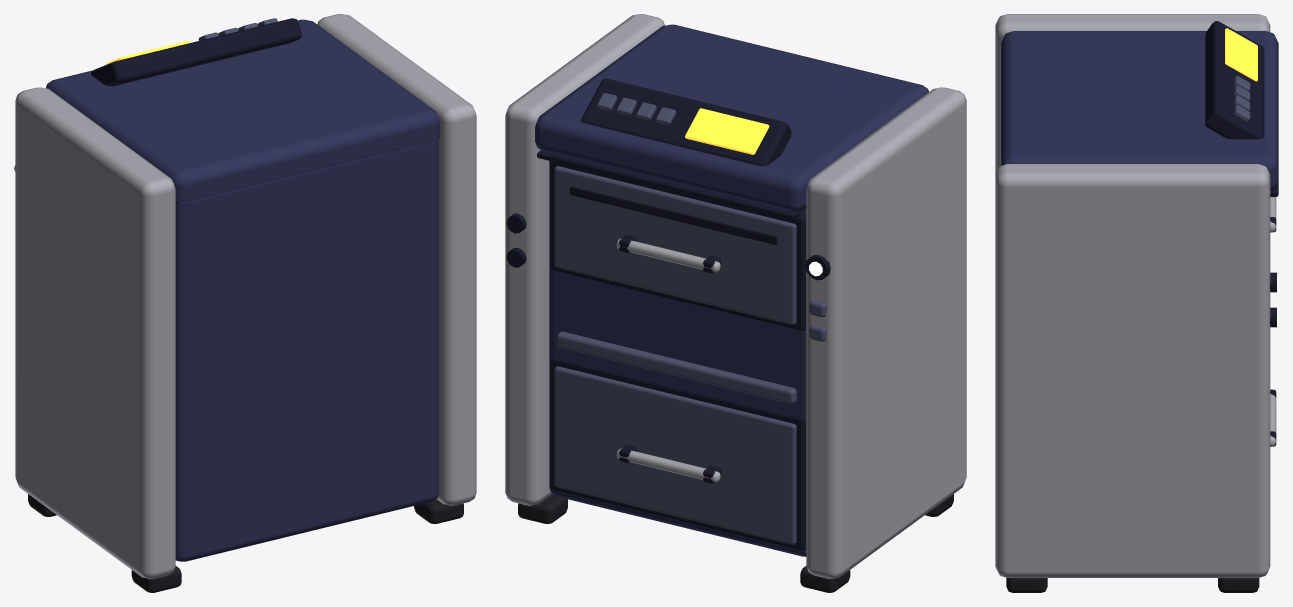
File: prop.props_workrooms.utility_twin.glb
3 views of the same model, side by side, from view 1: azimuth 30°, elevation 25°; view 2: azimuth 150°, elevation 25°; view 3: azimuth 270°, elevation 25° (orthographic). The views are drawn at different scales.
Parts seen in each view (by area): view 1: prop.props_workrooms.utility_twin; view 2: prop.props_workrooms.utility_twin; view 3: prop.props_workrooms.utility_twin.
Boxes of the visible parts, x1=… form: prop.props_workrooms.utility_twin: x1=14, y1=14, x2=476, y2=592; prop.props_workrooms.utility_twin: x1=505, y1=14, x2=966, y2=592; prop.props_workrooms.utility_twin: x1=995, y1=14, x2=1278, y2=592.
Bounding box in the file's own units: 0.72 × 0.9053 × 0.515.
